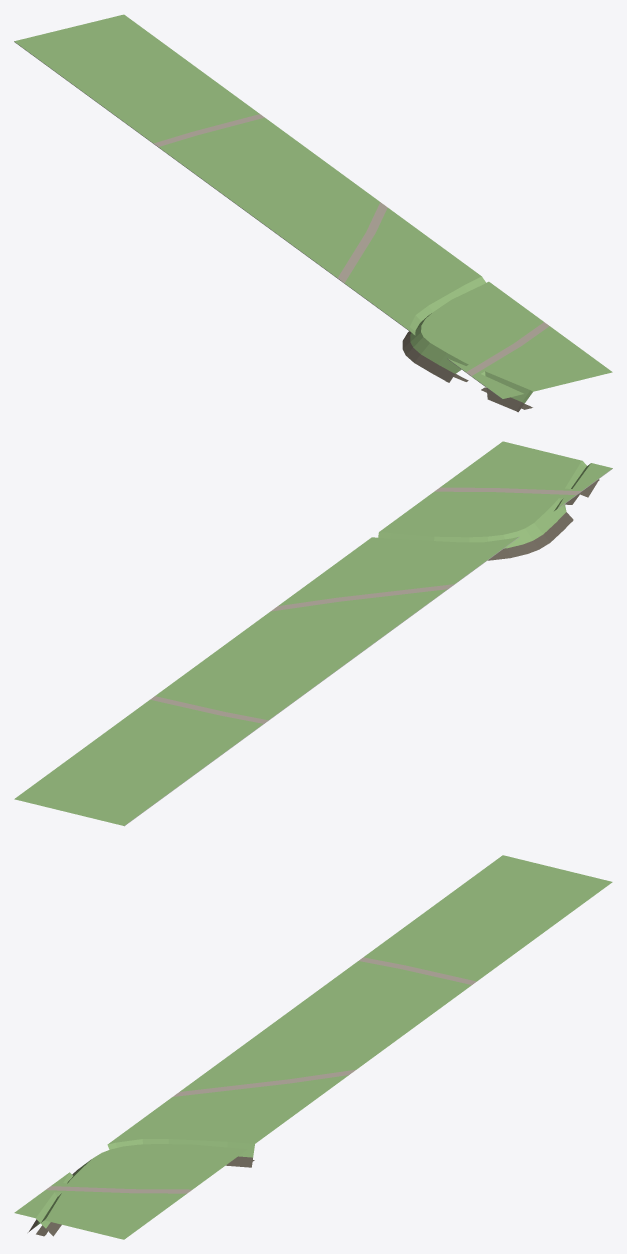
The model's file is ground_3_11.glb.
The picture shows the model from 3 angles, top to bottom: view 1: azimuth 30°, elevation 25°; view 2: azimuth 150°, elevation 25°; view 3: azimuth 330°, elevation 25°; orthographic projection.
Visible parts, largest first — view 1: ground_3_11; view 2: ground_3_11; view 3: ground_3_11.
Boxes of the visible parts, x1,y1,x2,y2 form: ground_3_11: (14, 14, 612, 412); ground_3_11: (14, 441, 612, 826); ground_3_11: (14, 855, 612, 1239).
Size of the model in its own units: 30.36 by 3.62 by 200.
